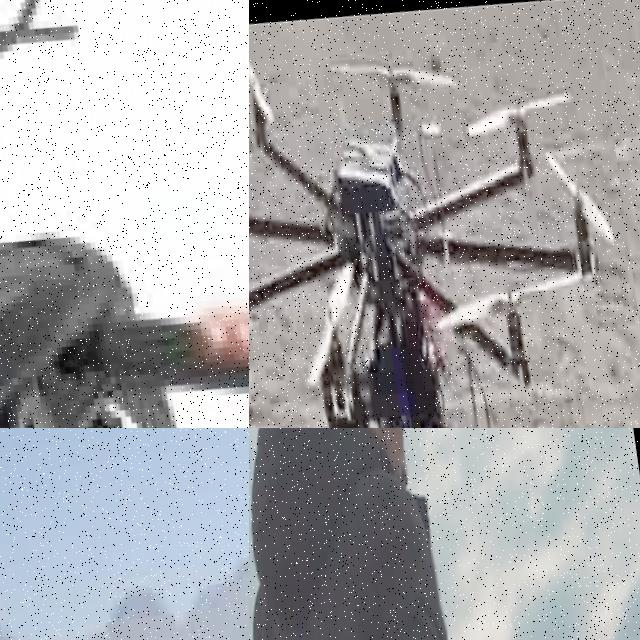0: (249, 0, 640, 428)
drone: (0, 0, 249, 428)
